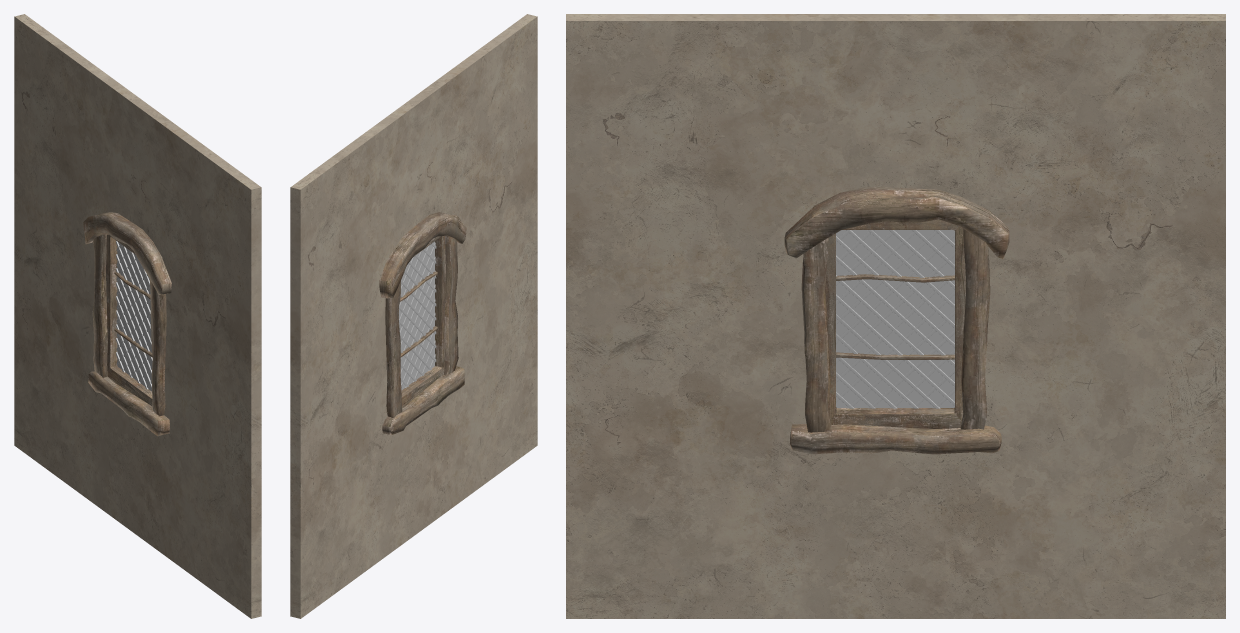
Rendered from SM_Wall_Window_02.fbx.
3 views of the same model, side by side, from view 1: azimuth 30°, elevation 25°; view 2: azimuth 150°, elevation 25°; view 3: azimuth 270°, elevation 25° (orthographic). The views are drawn at different scales.
Visible parts, largest first — view 1: SM_Wall_Window_02_LOD0; view 2: SM_Wall_Window_02_LOD0; view 3: SM_Wall_Window_02_LOD0.
Boxes of the visible parts, left/top/right/bottom form: SM_Wall_Window_02_LOD0: left=14, top=14, right=261, bottom=618; SM_Wall_Window_02_LOD0: left=290, top=14, right=537, bottom=618; SM_Wall_Window_02_LOD0: left=566, top=14, right=1225, bottom=618.
Bounding box in the file's own units: 36.63 × 400 × 400.
